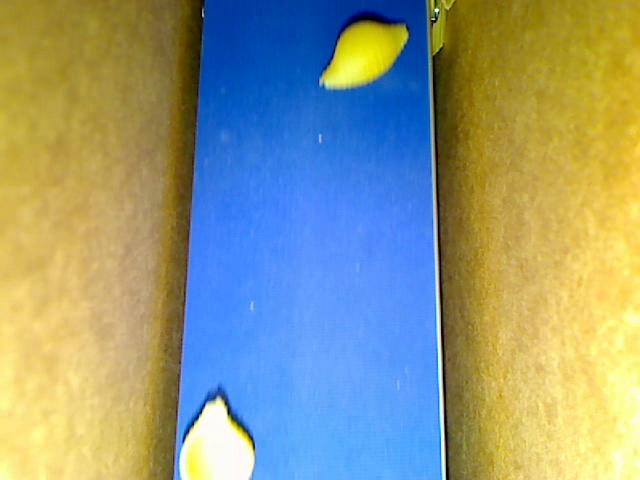penne: (424, 1, 443, 56), (437, 1, 457, 13)
shell: (174, 394, 255, 479), (315, 17, 408, 89)
